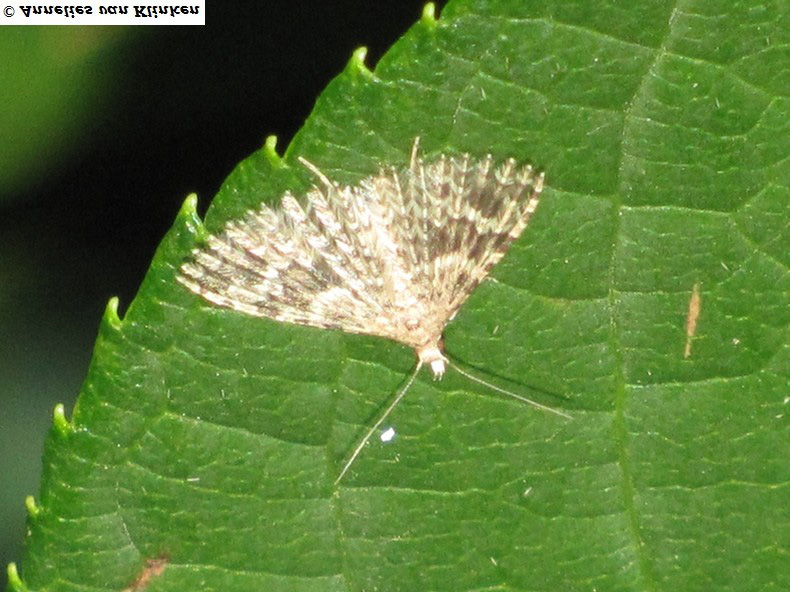Alucitidae: (164, 130, 550, 485)
moth: (166, 132, 552, 487)
